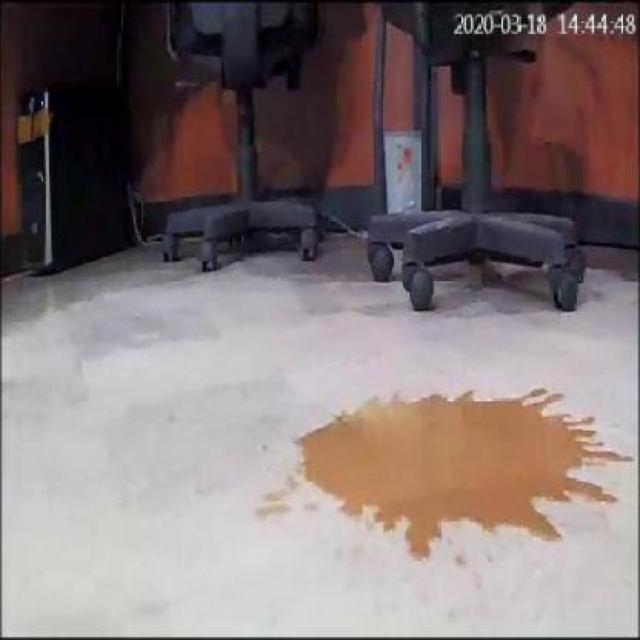spillage: (294, 390, 609, 560)
